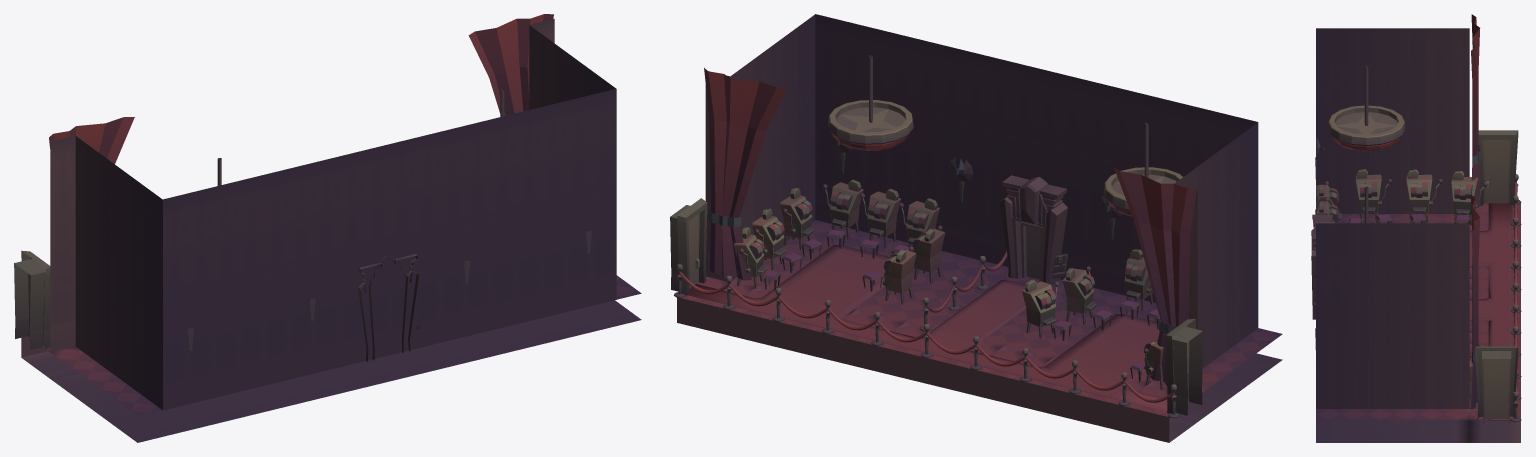
File: SM_CasinoRoom-A.fbx
3 renders of one model, left to right at view 1: azimuth 30°, elevation 25°; view 2: azimuth 150°, elevation 25°; view 3: azimuth 270°, elevation 25°, orthographic. The views are drawn at different scales.
Visible parts, largest first — view 1: SM_BackgroundPlane.035; view 2: SM_BackgroundPlane.035; view 3: SM_BackgroundPlane.035.
Part boxes in pixels (<box>): SM_BackgroundPlane.035: <box>14,14,641,442</box>; SM_BackgroundPlane.035: <box>670,14,1282,442</box>; SM_BackgroundPlane.035: <box>1311,14,1521,442</box>.
Bounding box in the file's own units: 2100 × 820 × 913.
